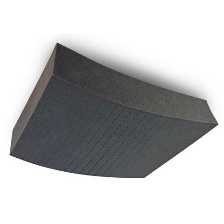foam_box: (6, 39, 220, 182)
